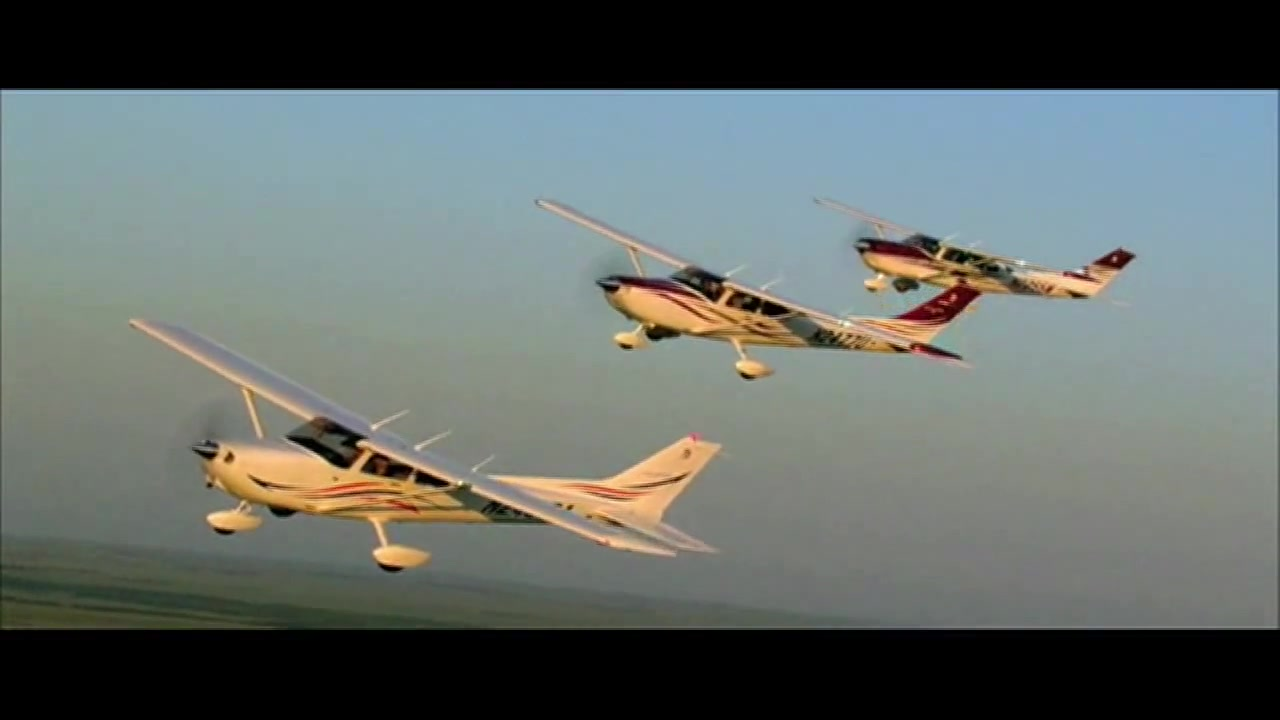aeroplane: (131, 319, 726, 575), (530, 193, 981, 379), (813, 195, 1141, 310)
